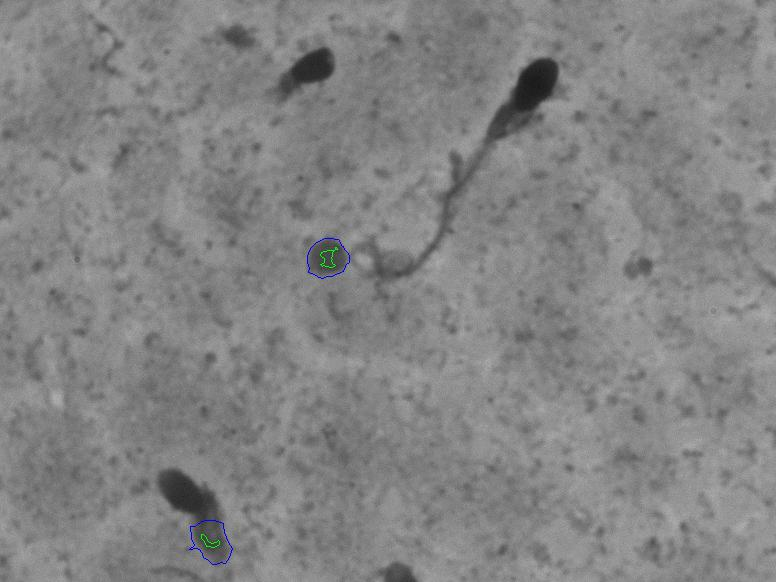Abnormal: (379, 53, 582, 346), (246, 14, 355, 156)
